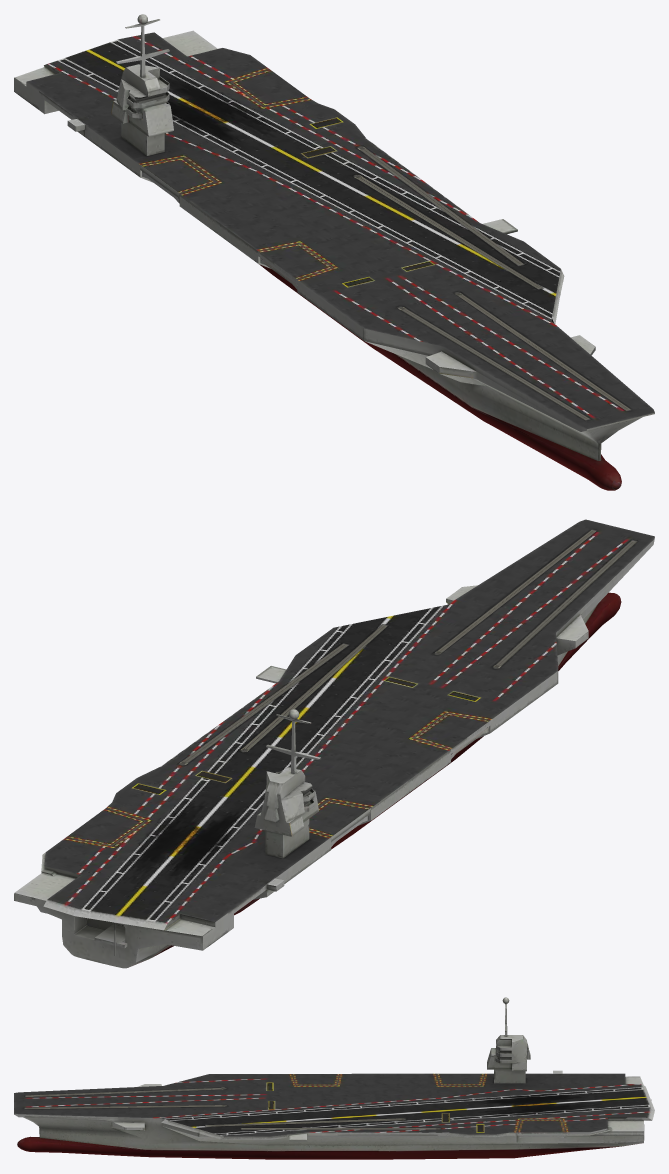
File: ford.glb
3 renders of one model, top to bottom at view 1: azimuth 30°, elevation 25°; view 2: azimuth 150°, elevation 25°; view 3: azimuth 270°, elevation 25°, orthographic. The views are drawn at different scales.
Visible parts, largest first — view 1: Gerald Body_Gerald Ford_0; view 2: Gerald Body_Gerald Ford_0; view 3: Gerald Body_Gerald Ford_0.
Part boxes in pixels (bbox=[...]): Gerald Body_Gerald Ford_0: bbox=[14, 14, 654, 490]; Gerald Body_Gerald Ford_0: bbox=[14, 519, 654, 968]; Gerald Body_Gerald Ford_0: bbox=[14, 997, 654, 1159].
Bounding box in the file's own units: 1336 × 1188 × 5290.
Materials: 1 (1 with a texture image).
